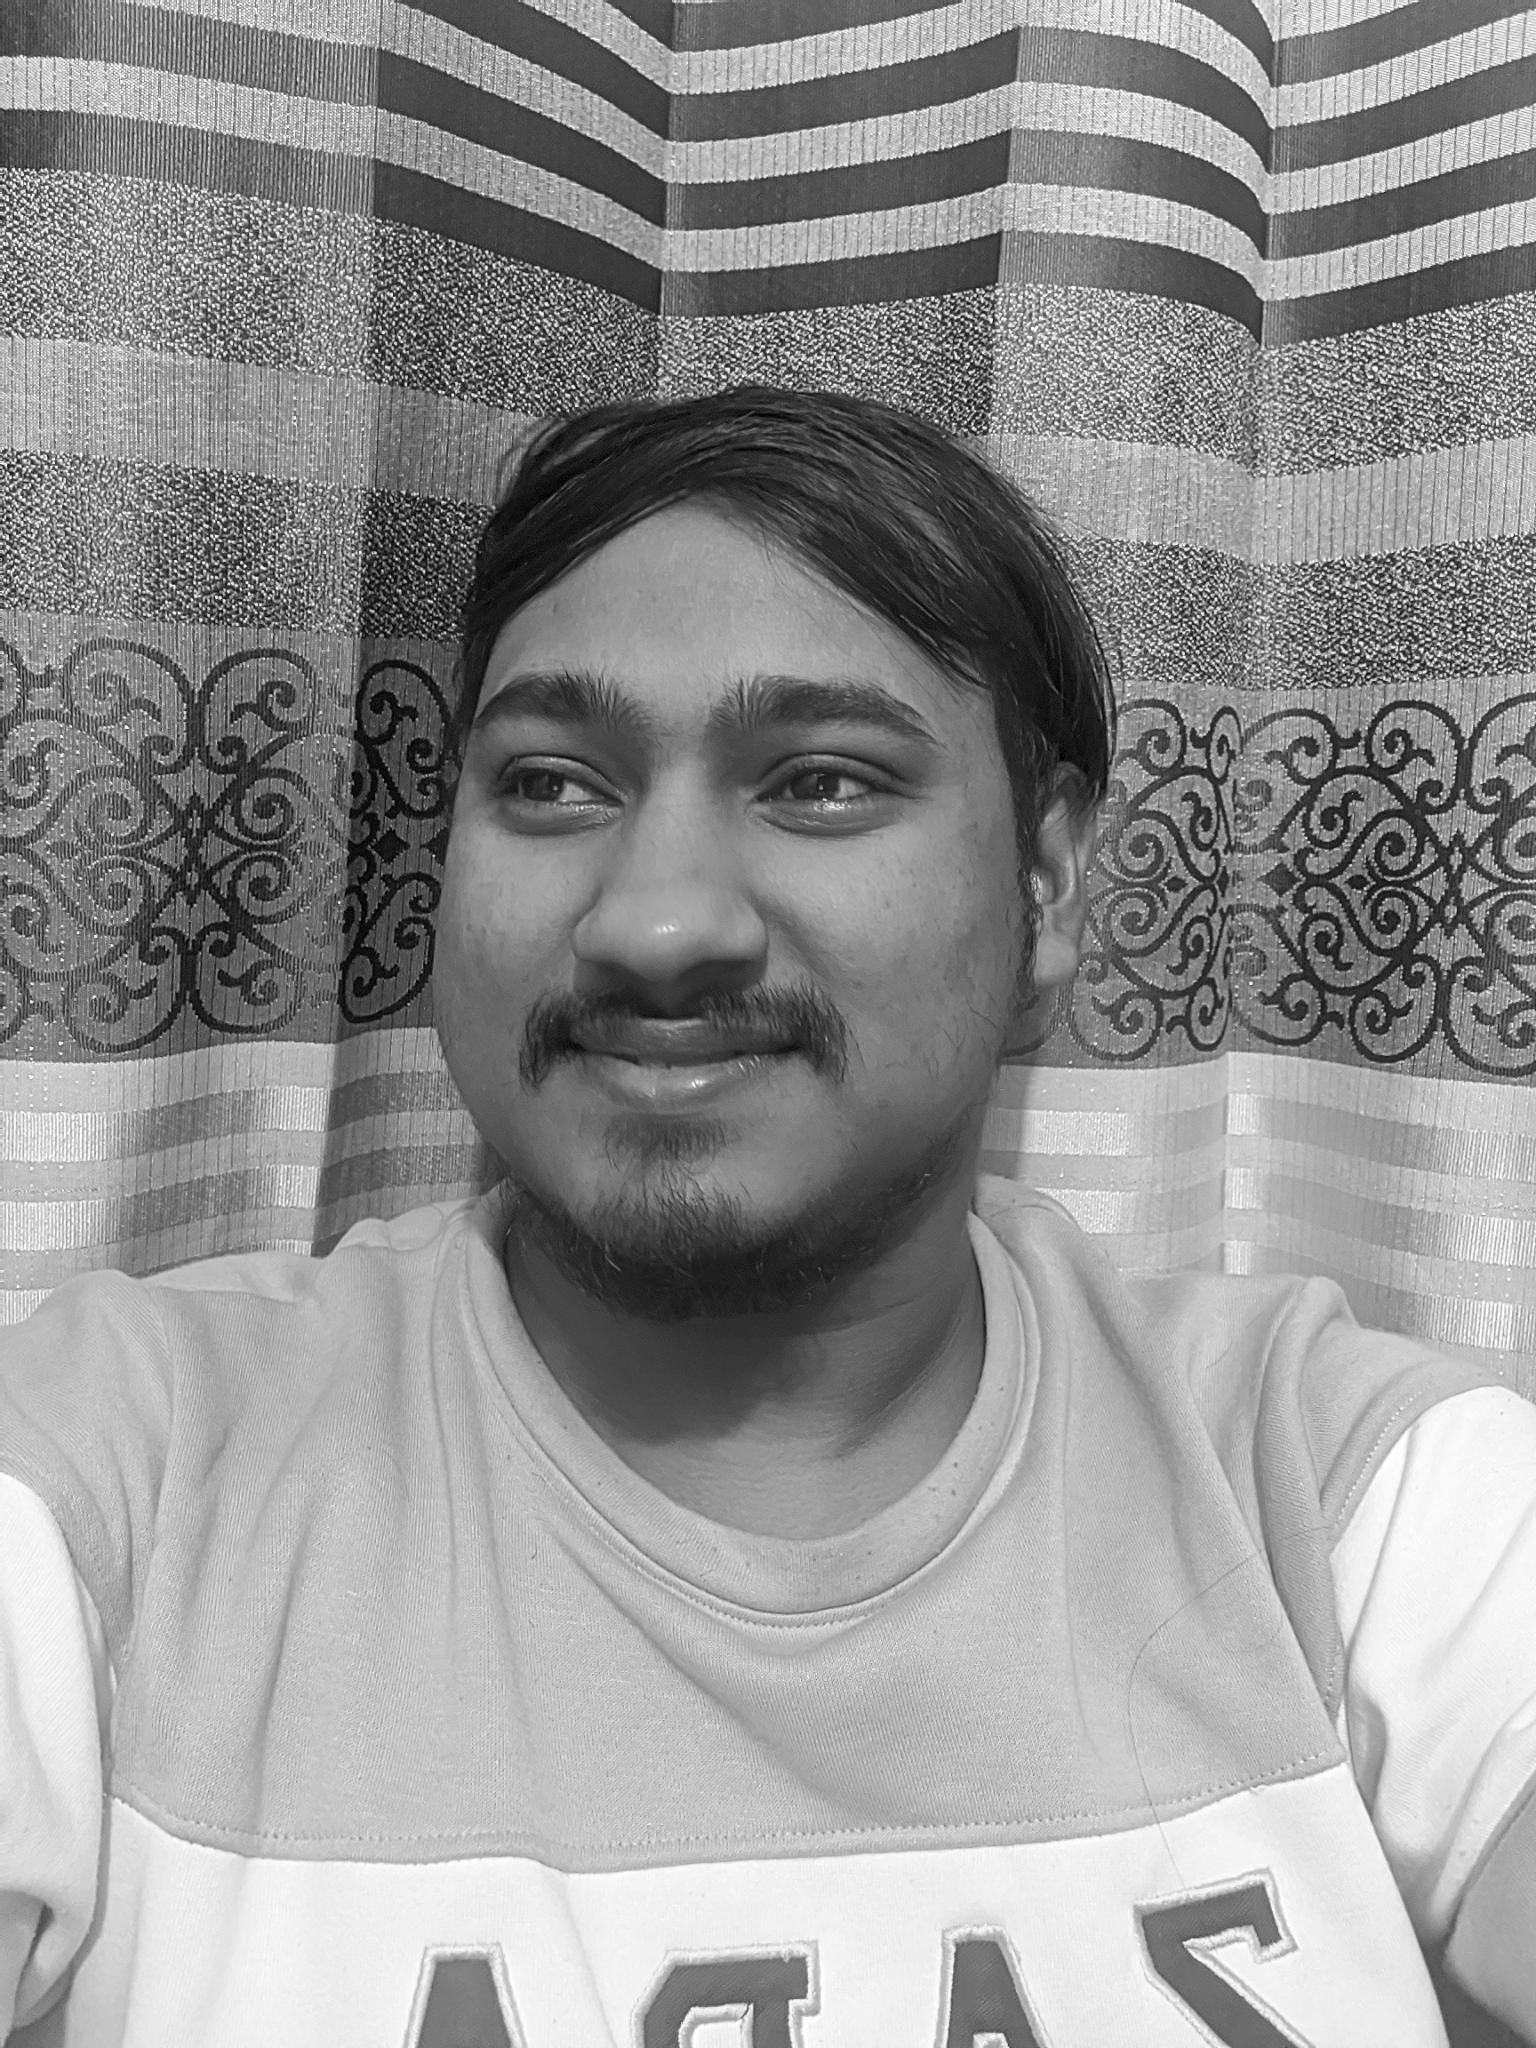Happy: (445, 605, 966, 1255)
